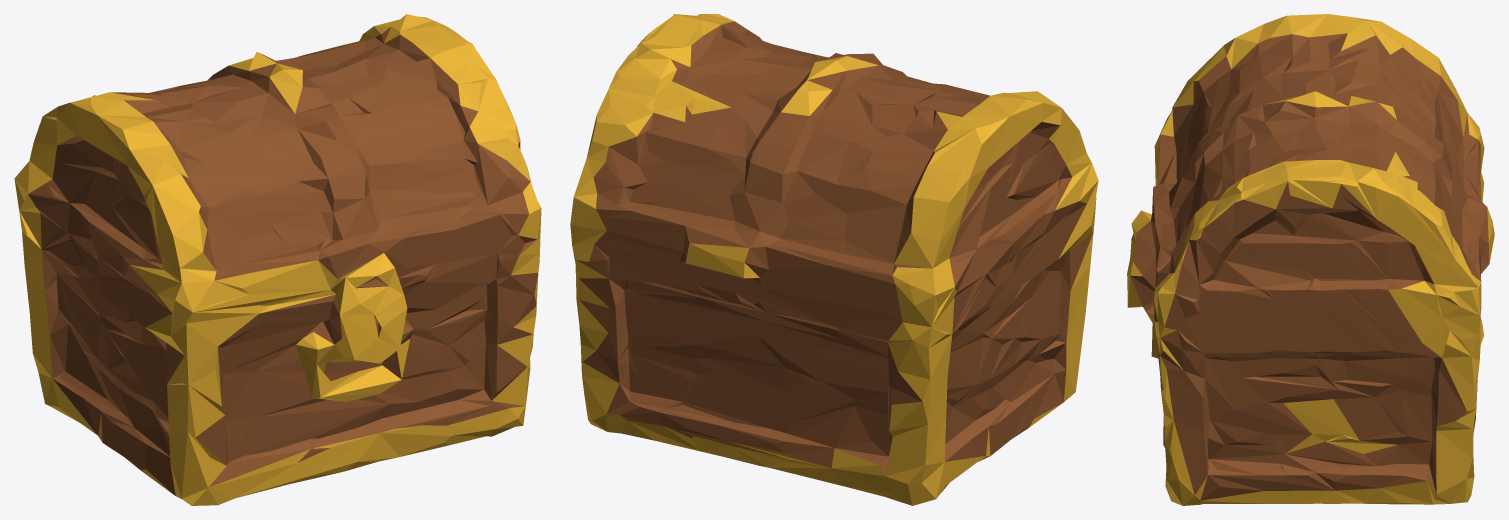
Rendered from chest.glb.
The picture shows the model from 3 angles, left to right: view 1: azimuth 30°, elevation 25°; view 2: azimuth 150°, elevation 25°; view 3: azimuth 270°, elevation 25°; orthographic projection. The views are drawn at different scales.
Visible parts, largest first — view 1: renk0, renk1; view 2: renk0, renk1; view 3: renk0, renk1.
Part boxes in pixels (x1,y1,x2,y2): renk0: (28, 27, 538, 495); renk1: (14, 14, 541, 505); renk0: (577, 21, 1092, 475); renk1: (570, 14, 1098, 505); renk0: (1130, 33, 1489, 500); renk1: (1127, 14, 1494, 505).
Bounding box in the file's own units: 0.6004 × 0.5419 × 0.5349.
